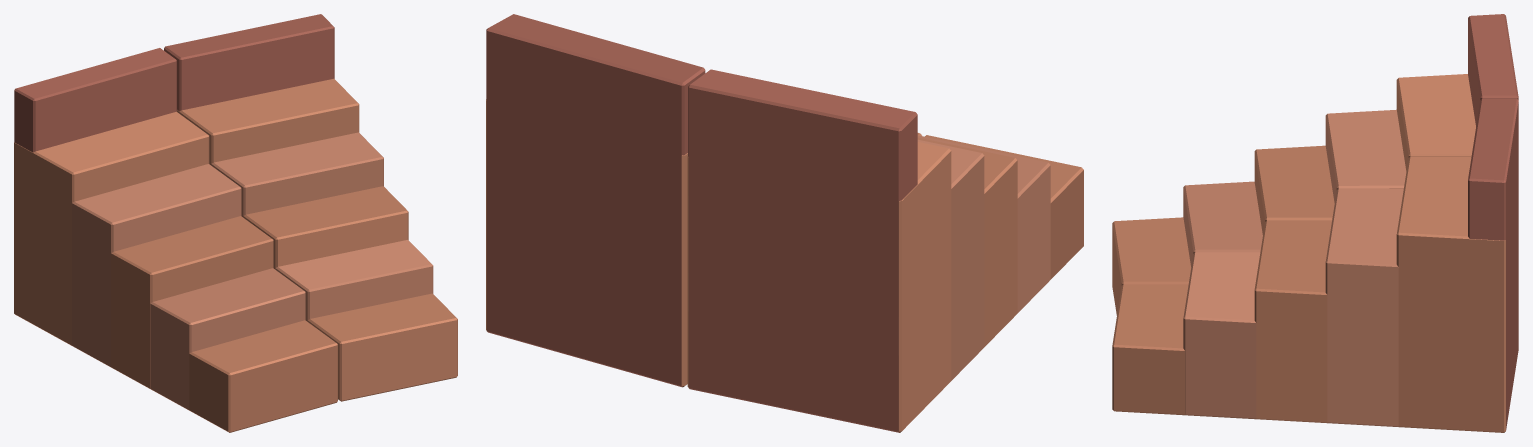
File: Stands_Segment.fbx
The picture shows the model from 3 angles, left to right: view 1: azimuth 30°, elevation 25°; view 2: azimuth 150°, elevation 25°; view 3: azimuth 270°, elevation 25°; orthographic projection. The views are drawn at different scales.
Visible parts, largest first — view 1: Stands_Segment; view 2: Stands_Segment; view 3: Stands_Segment.
Part boxes in pixels (bbox=[...]): Stands_Segment: bbox=[14, 14, 457, 432]; Stands_Segment: bbox=[486, 14, 1083, 432]; Stands_Segment: bbox=[1112, 14, 1518, 432].
Bounding box in the file's own units: 6.22 × 4.35 × 6.35.
